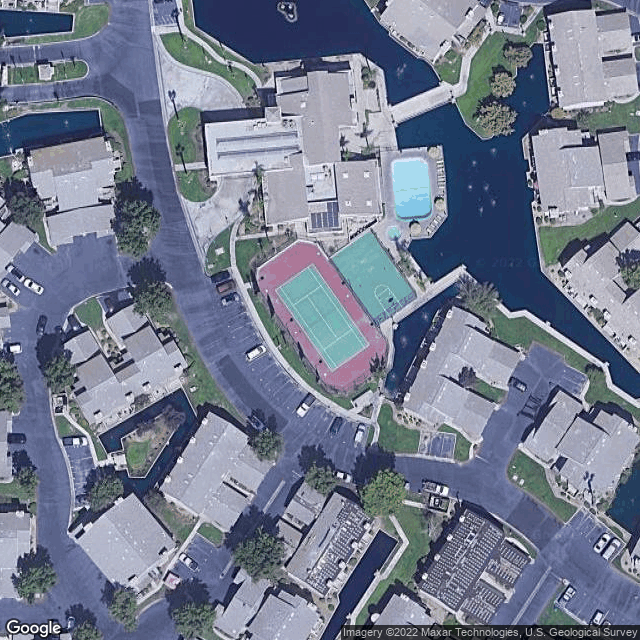Court: (275, 264, 371, 371)
